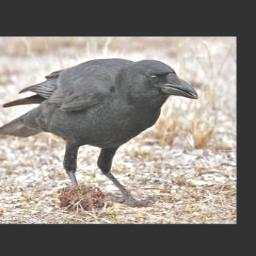Crow: (0, 57, 198, 207)
